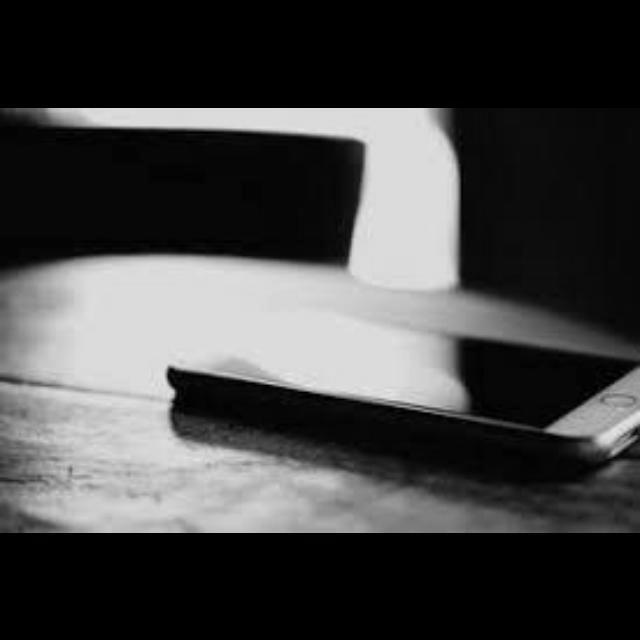fake: (138, 304, 637, 492)
